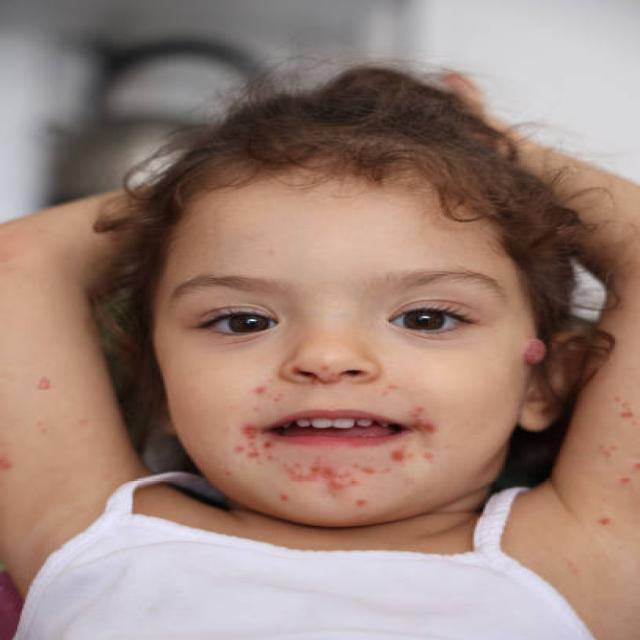Eczema: (251, 392, 432, 500), (0, 350, 82, 514), (606, 388, 640, 555)
